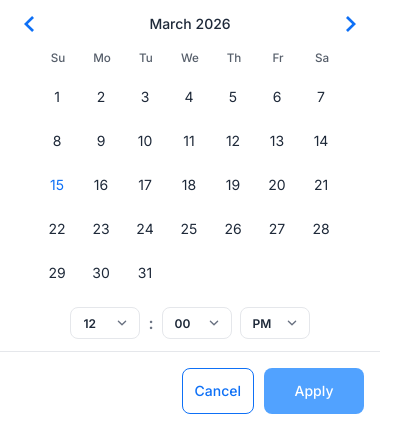
Test: DatePicker › Apply button is enabled after a day is selected
The image size is (397, 431).
Click the button "20" at (277, 185), box left=256, top=164, right=298, bottom=206
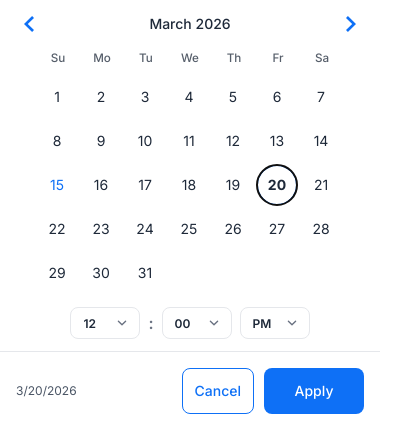
Expected: the button "Apply" is enabled, left=264, top=368, right=364, bottom=414
